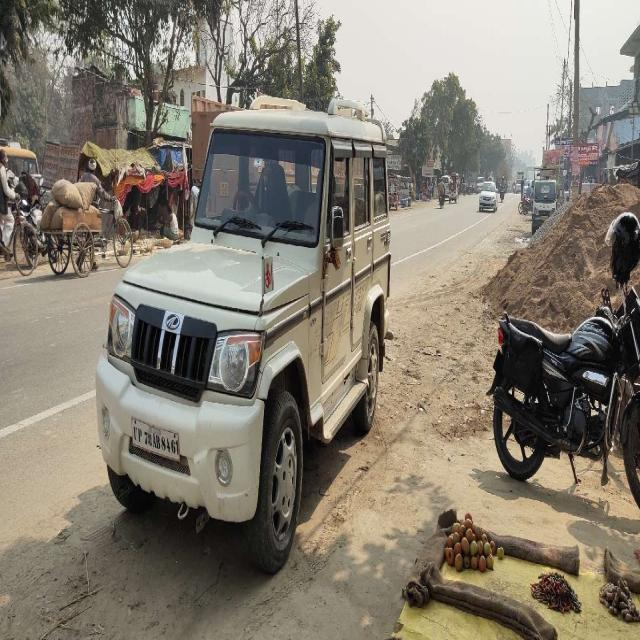light_vehicle: (95, 105, 388, 508)
